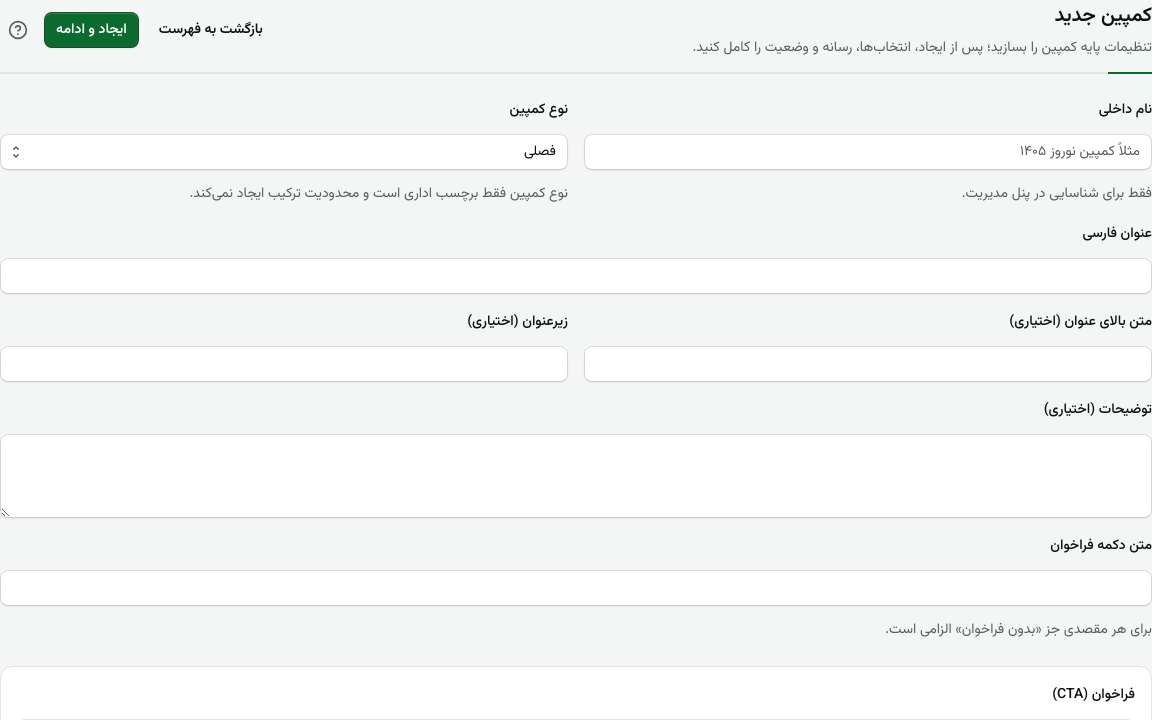
MerchandisingCampaignEditorPage (SS-275) › creates a campaign with only the supported settings fields
Type "کمپین جدید" into the field labelled "نام داخلی" at (868, 152), box x1=584 y1=134 x2=1151 y2=170
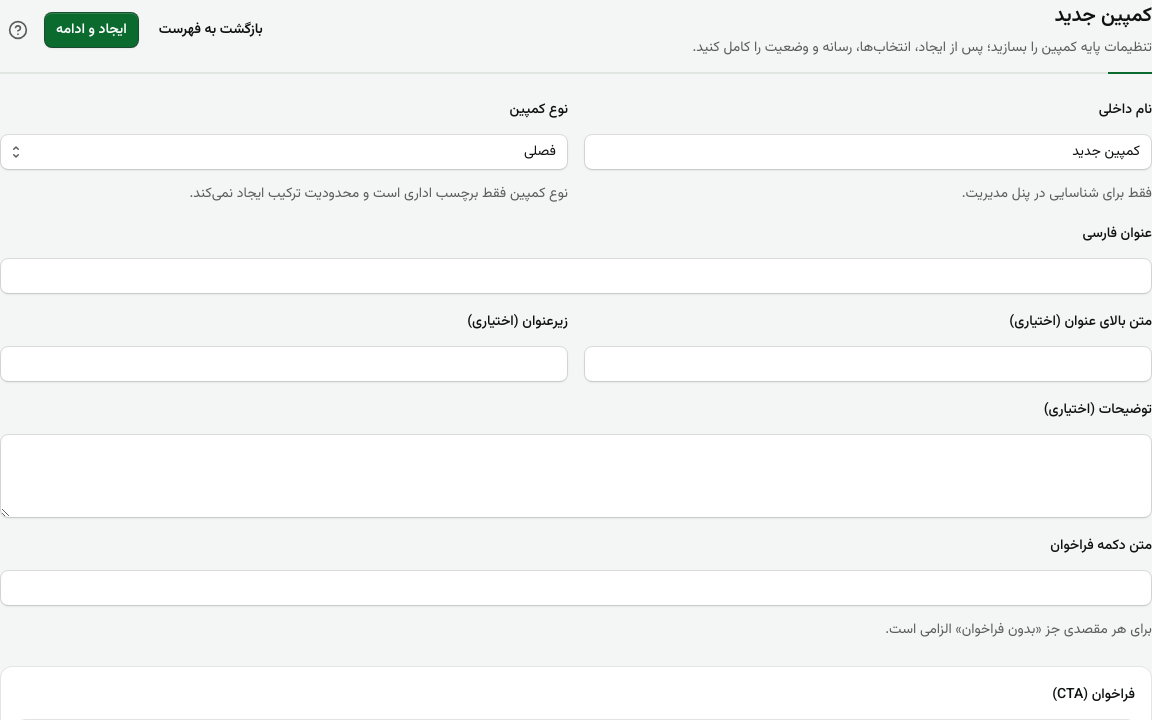
Type "عنوان جدید" into the field labelled "عنوان فارسی" at (576, 276), box x1=0 y1=258 x2=1151 y2=294
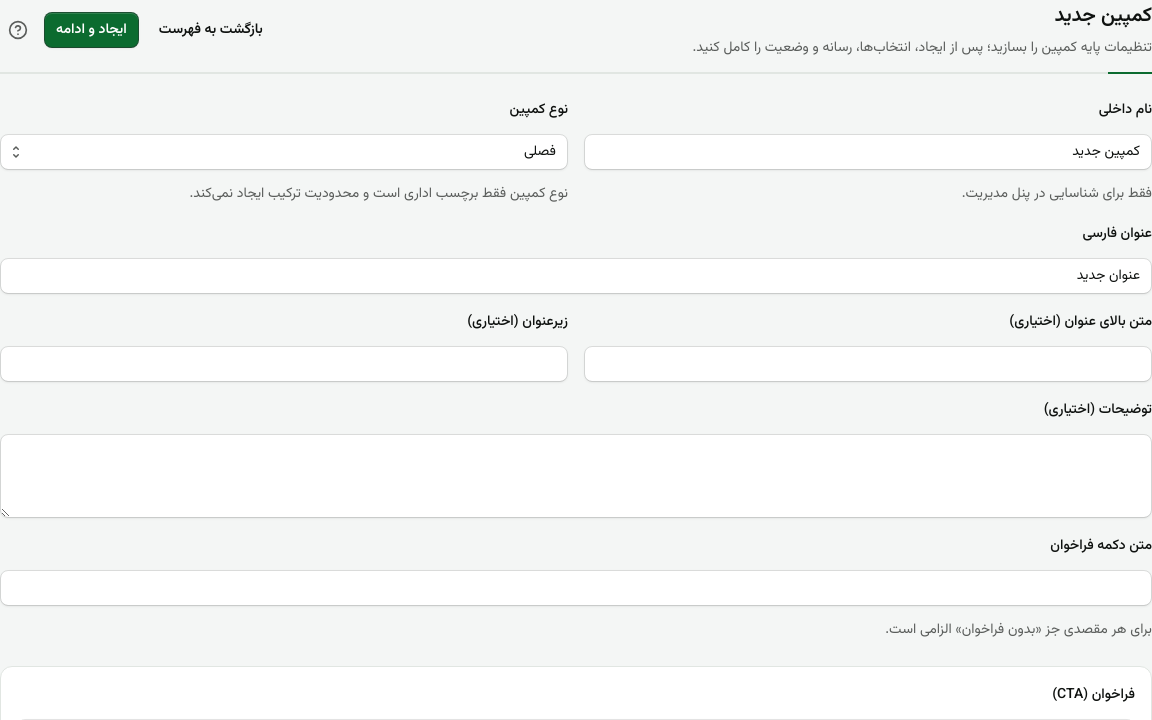
Click the button "ایجاد و ادامه" at (91, 30), box x1=44 y1=12 x2=139 y2=48
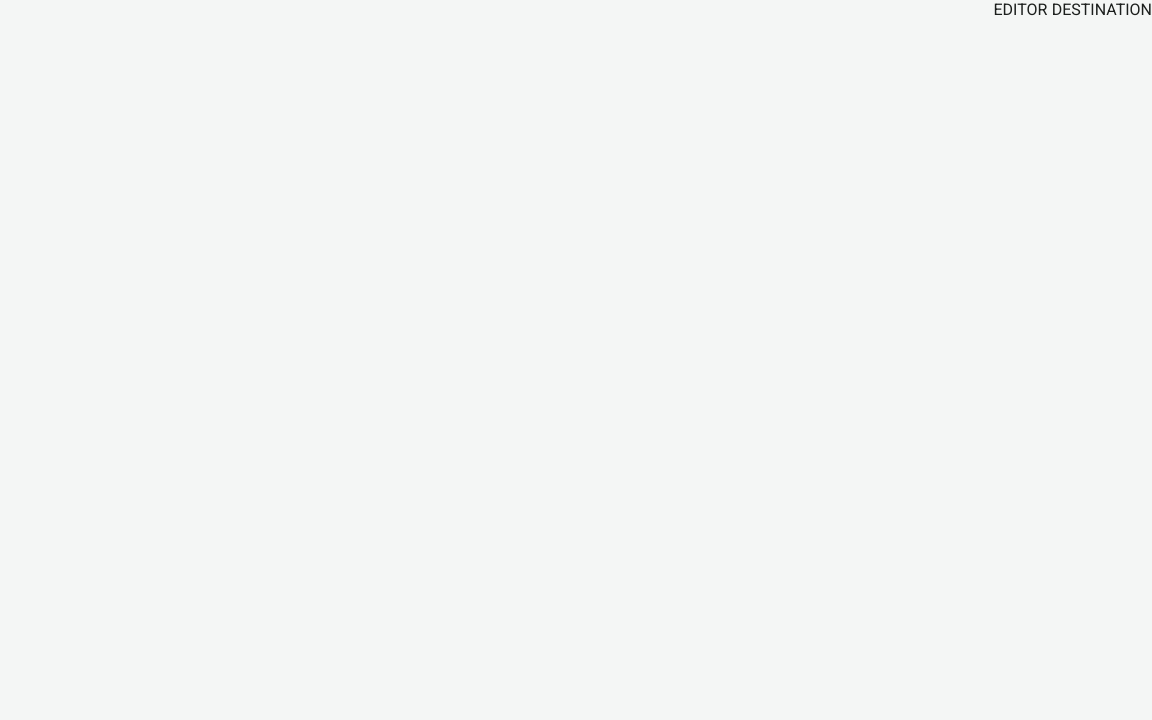
Check: the text "EDITOR DESTINATION" is shown, box x1=994 y1=0 x2=1151 y2=24
